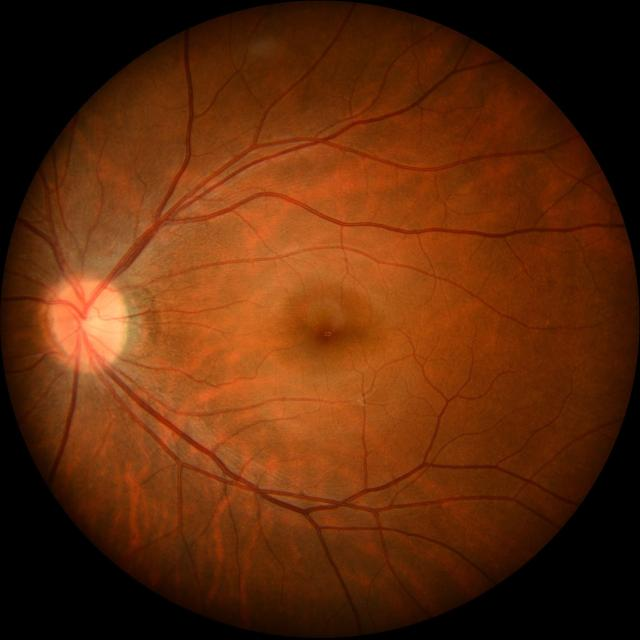OC: (80, 308, 102, 337)
OD: (52, 278, 125, 366)
